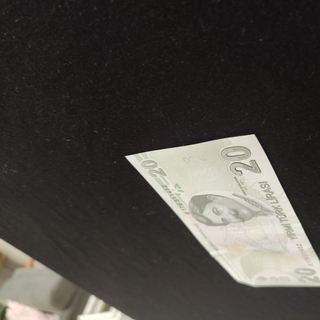20TLBack: (124, 133, 320, 288)
